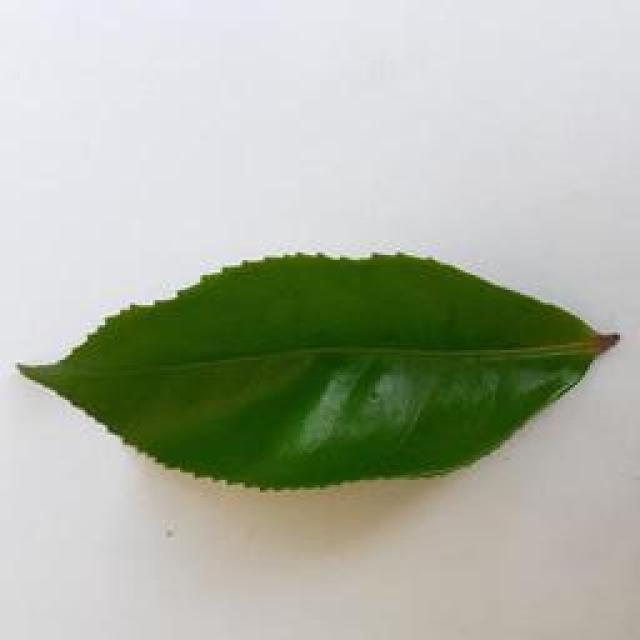Healthy: (14, 249, 628, 497)
